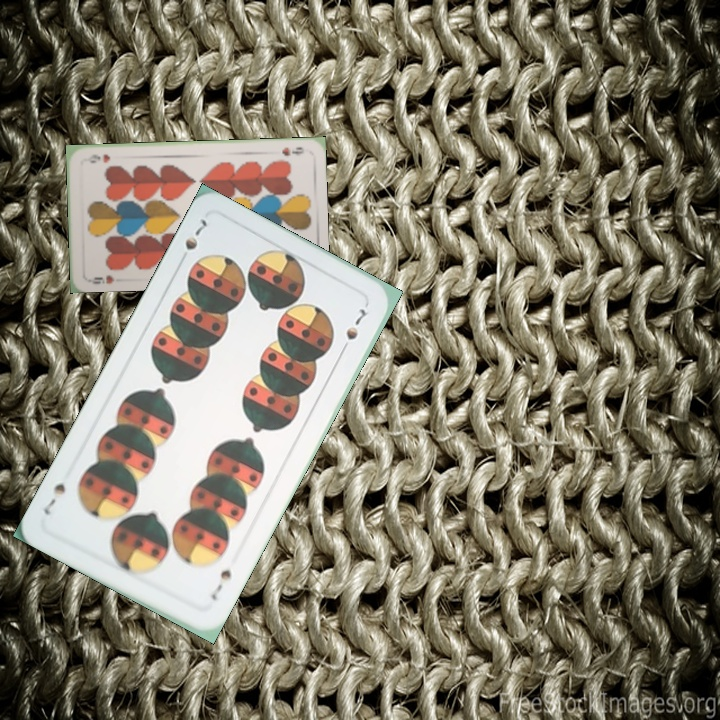H9: (85, 271, 117, 286), (278, 143, 306, 159)
S7: (180, 214, 210, 253), (207, 565, 235, 603)
